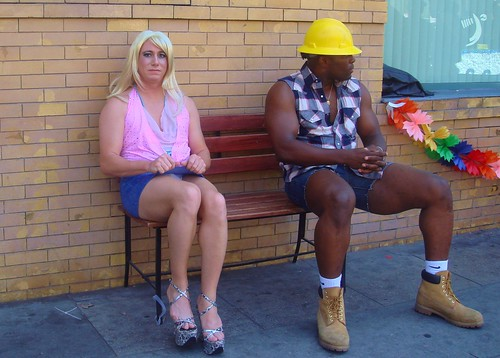person hardhat: (277, 11, 490, 343)
